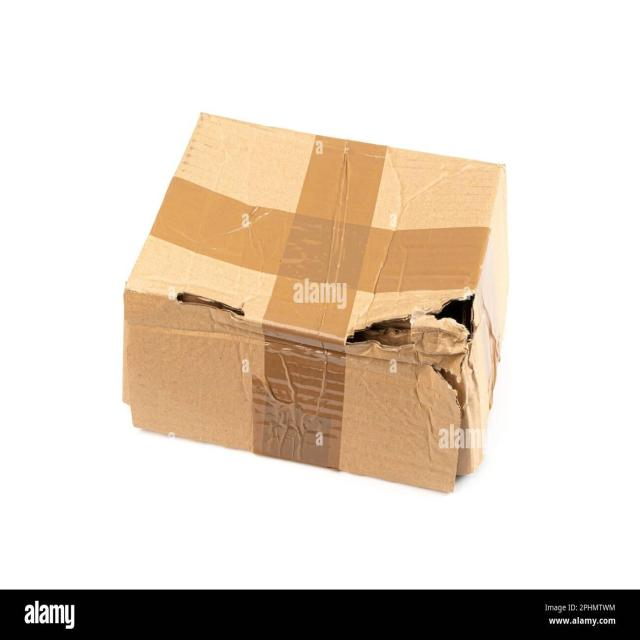Garbage: (116, 102, 518, 499)
